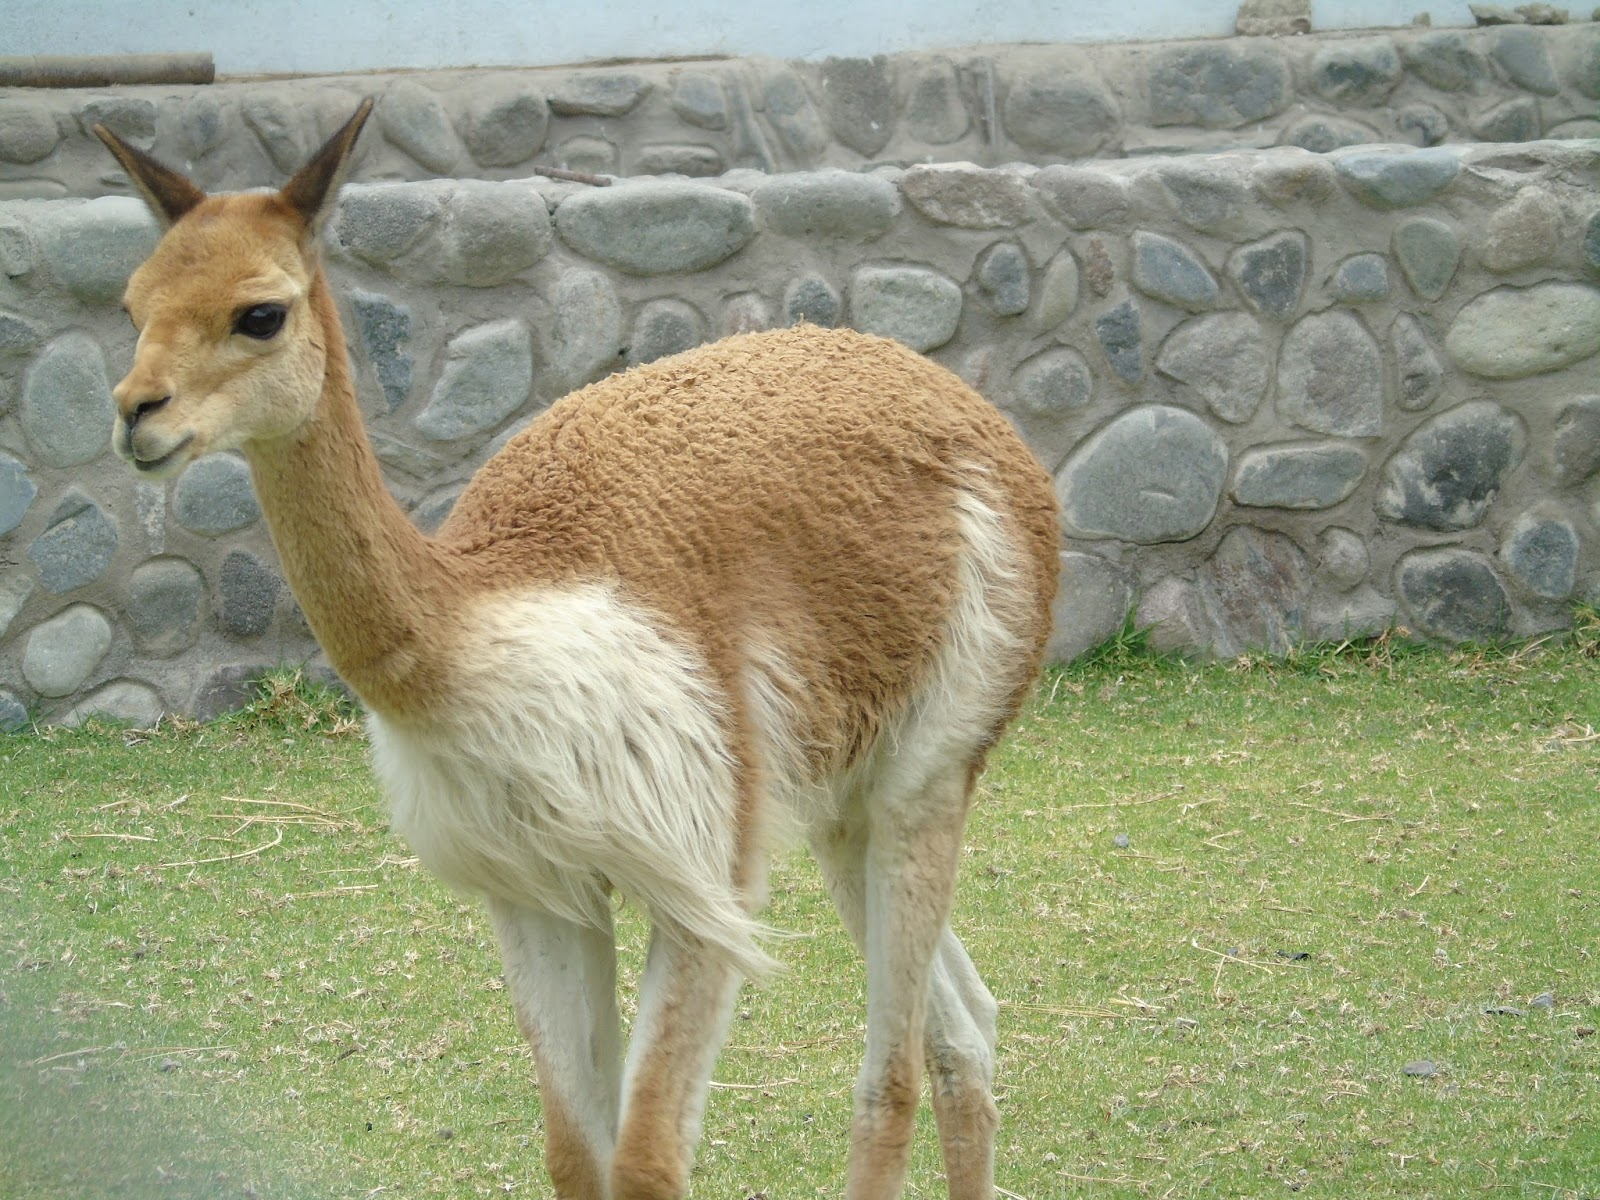eye: (233, 294, 291, 345)
mouth: (93, 410, 197, 478)
